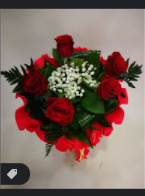RedRose: (42, 96, 77, 128), (21, 67, 49, 97), (98, 71, 124, 100)
